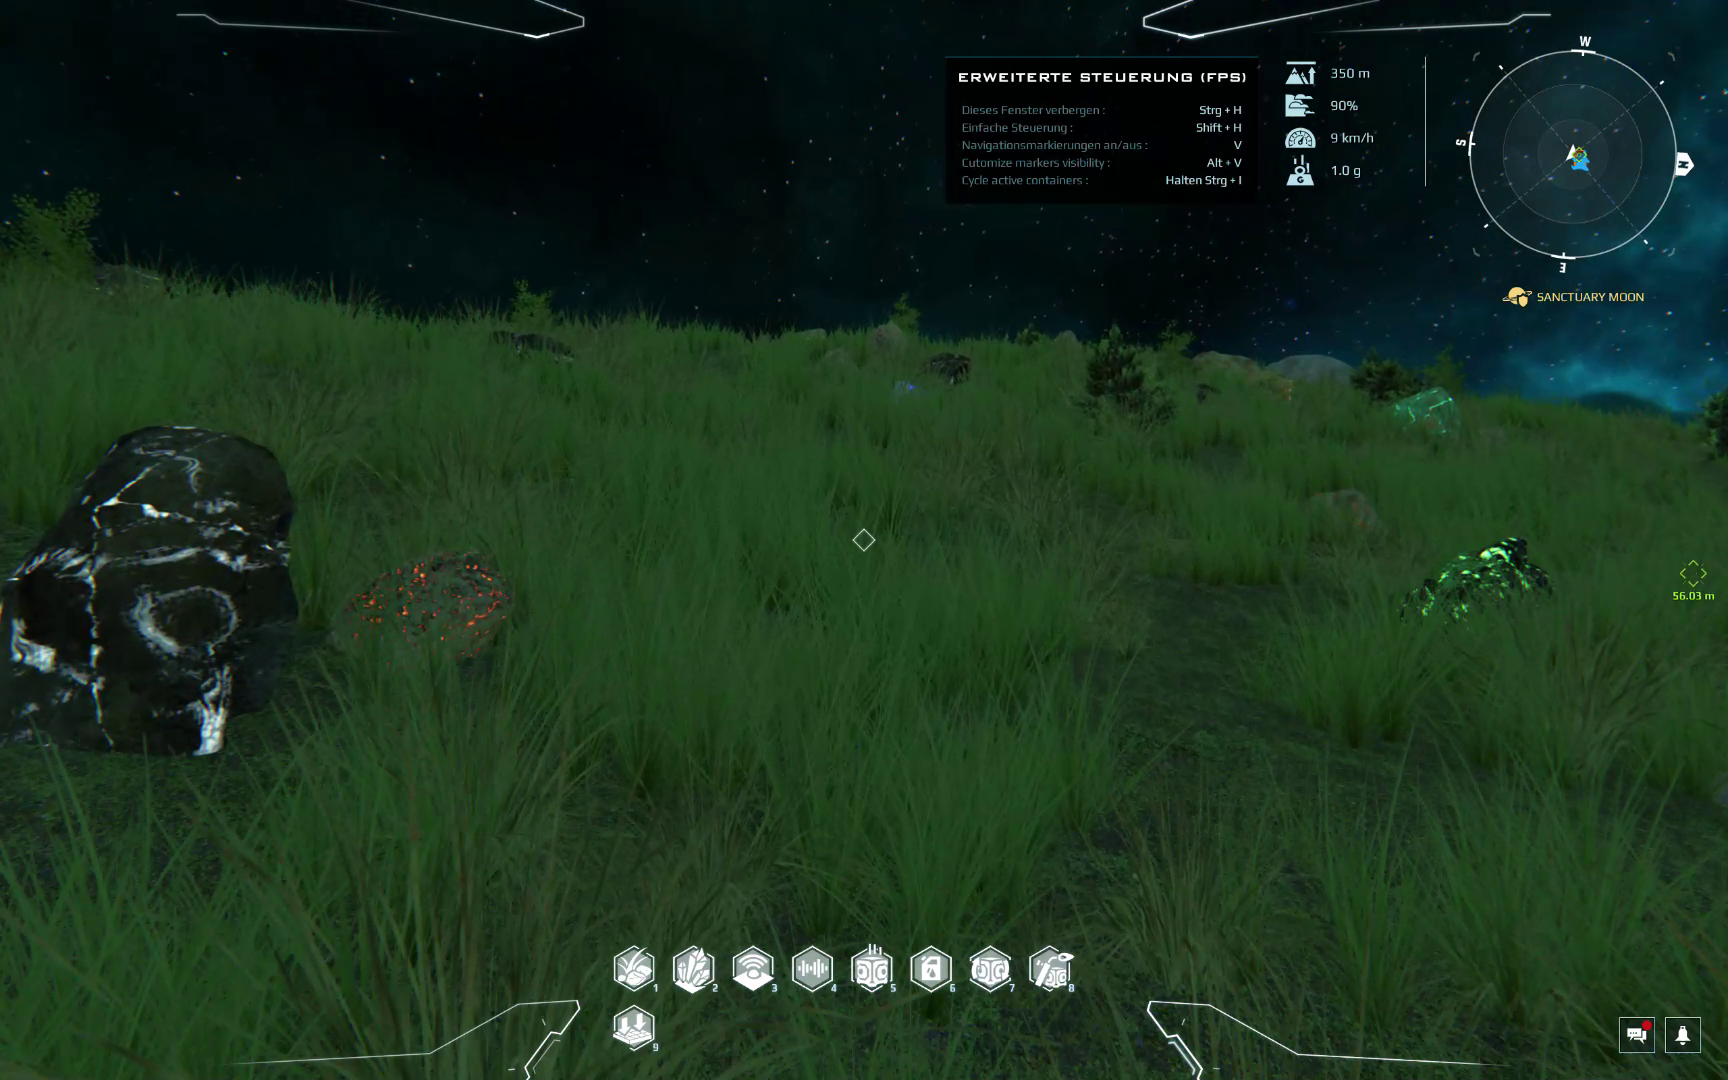Ore: (2, 419, 304, 781), (333, 547, 513, 677), (1395, 534, 1560, 640), (1298, 483, 1407, 547), (1380, 384, 1462, 445), (483, 327, 582, 375), (923, 352, 977, 384), (1252, 370, 1300, 402), (866, 321, 903, 358), (1188, 377, 1224, 404), (892, 379, 921, 398)
